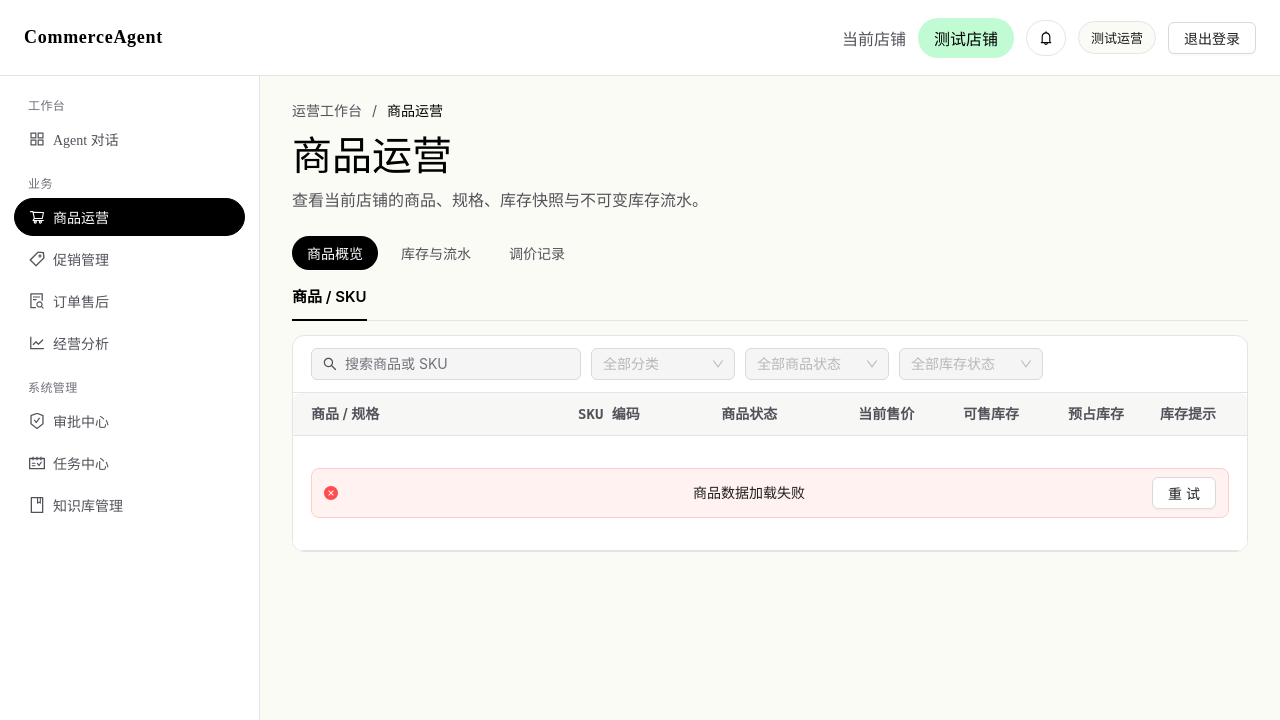
it: 商品运营 › lets the user retry a failed read without losing the current page
Expected: the message shows "商品数据加载失败", [693,484,805,500]
Click the button named "重试". click: [1184, 492]
box: [1152,476,1216,508]
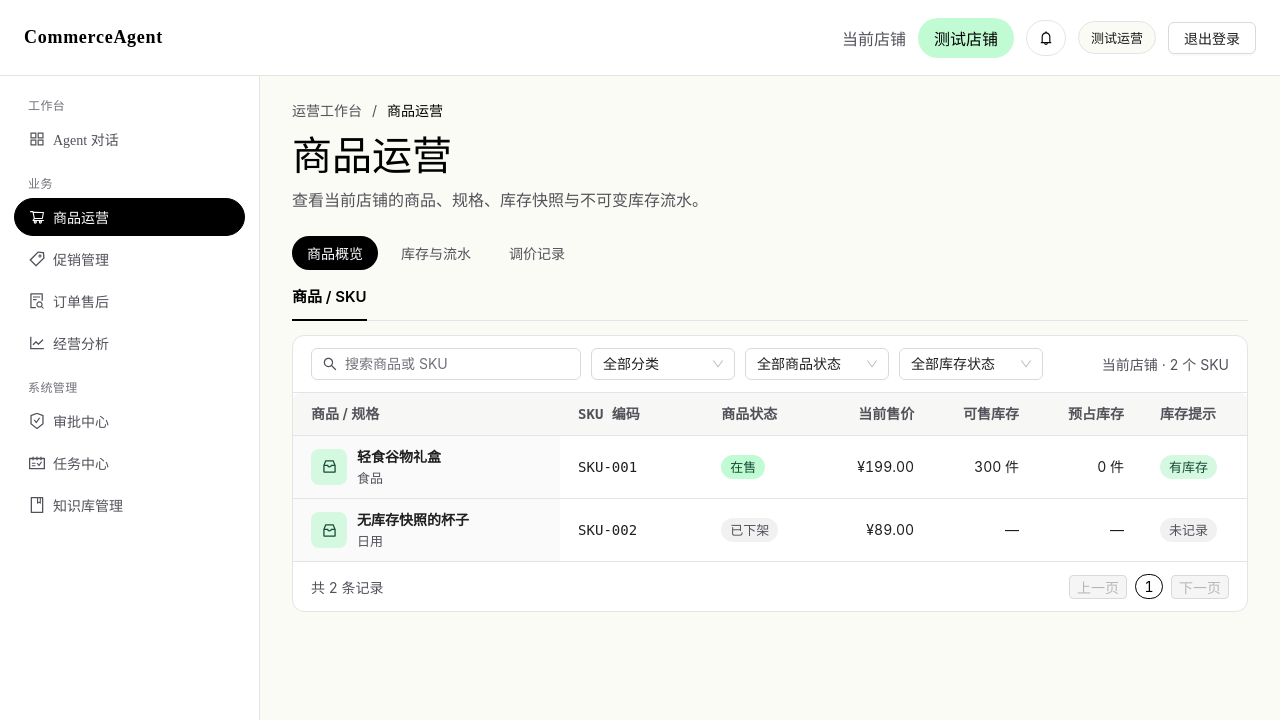
Now the text "SKU-001" is shown, box [560,436,703,499]
